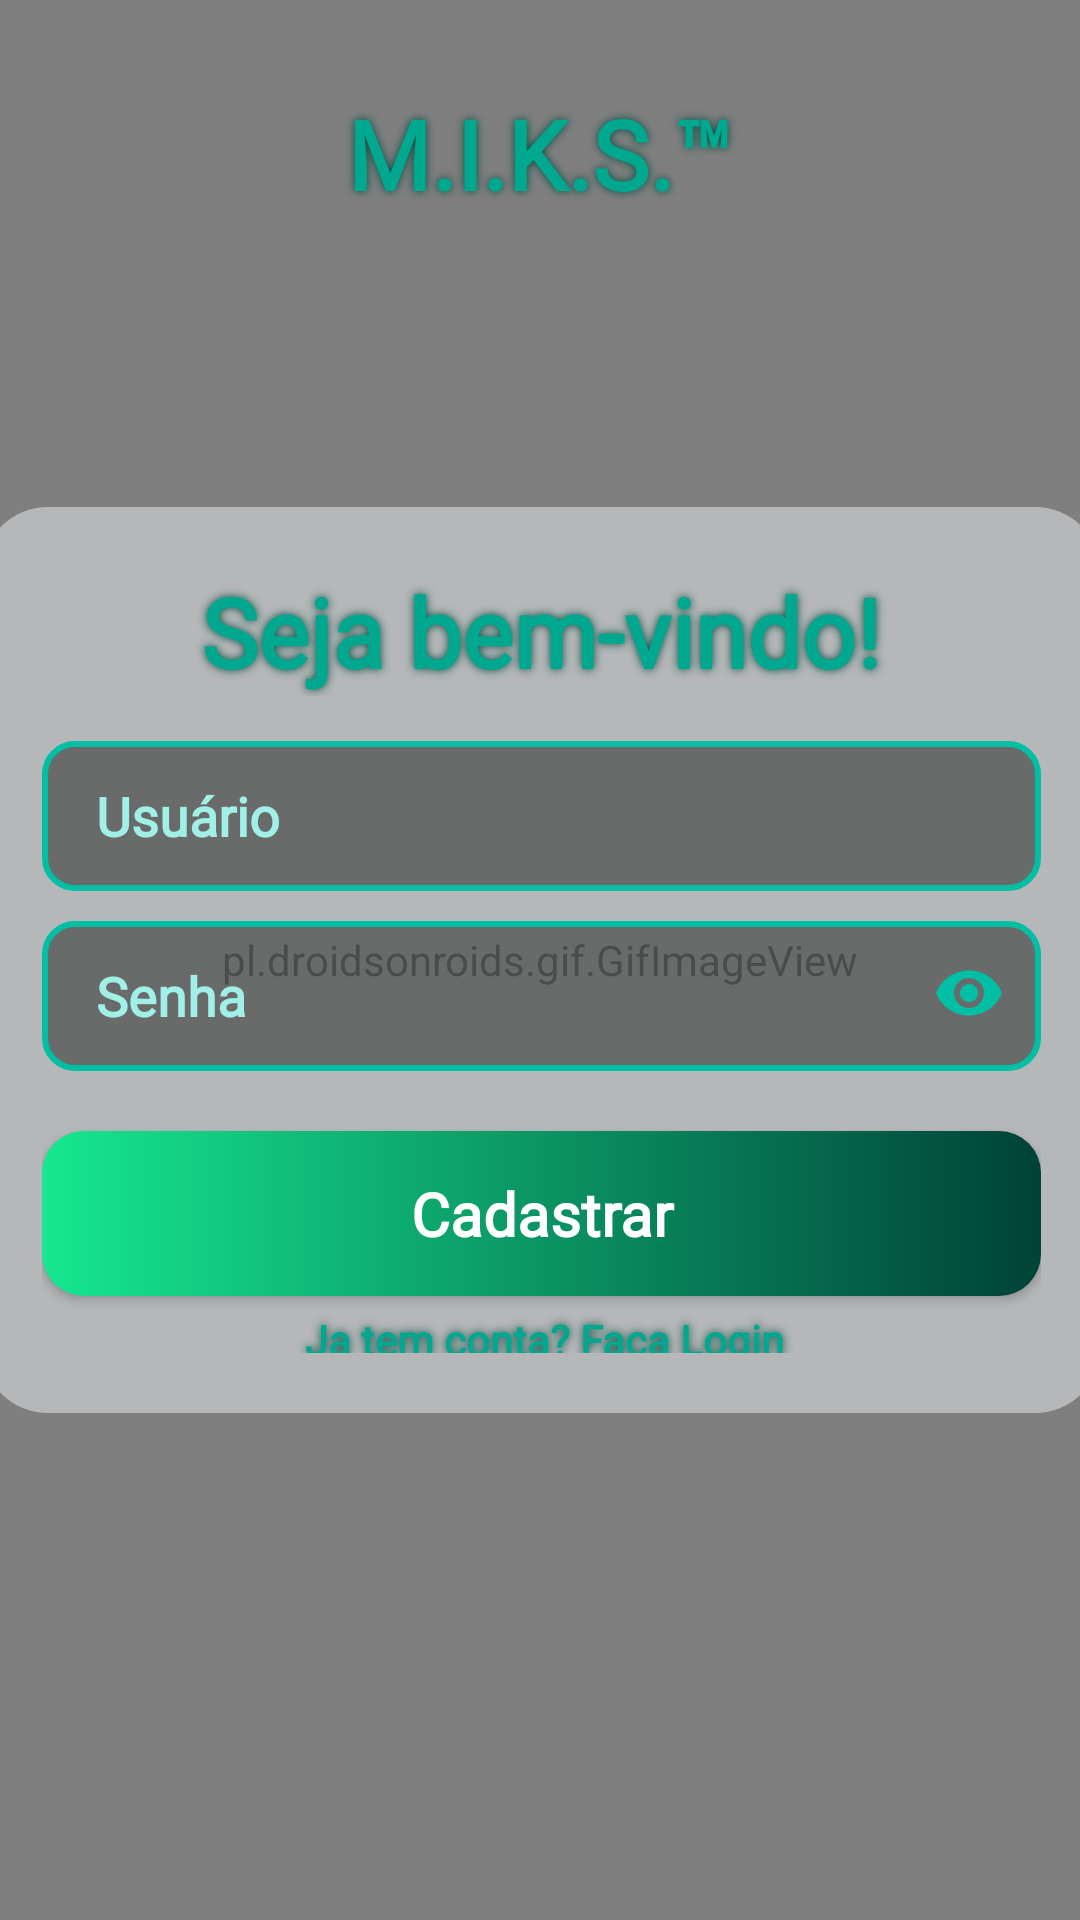

Screen size 1080*1920. Icon name, then its box in pixels as box=[x1, y1, x2, y2]:
eye: box=[936, 970, 1002, 1016]
